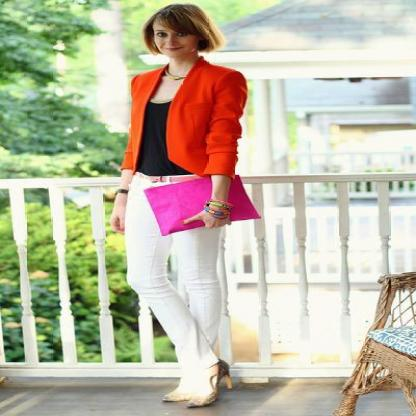bag: (145, 162, 263, 235)
jacket: (119, 58, 246, 180)
pants: (113, 192, 244, 365)
shirt: (135, 91, 186, 177)
shoe: (181, 347, 240, 400)
